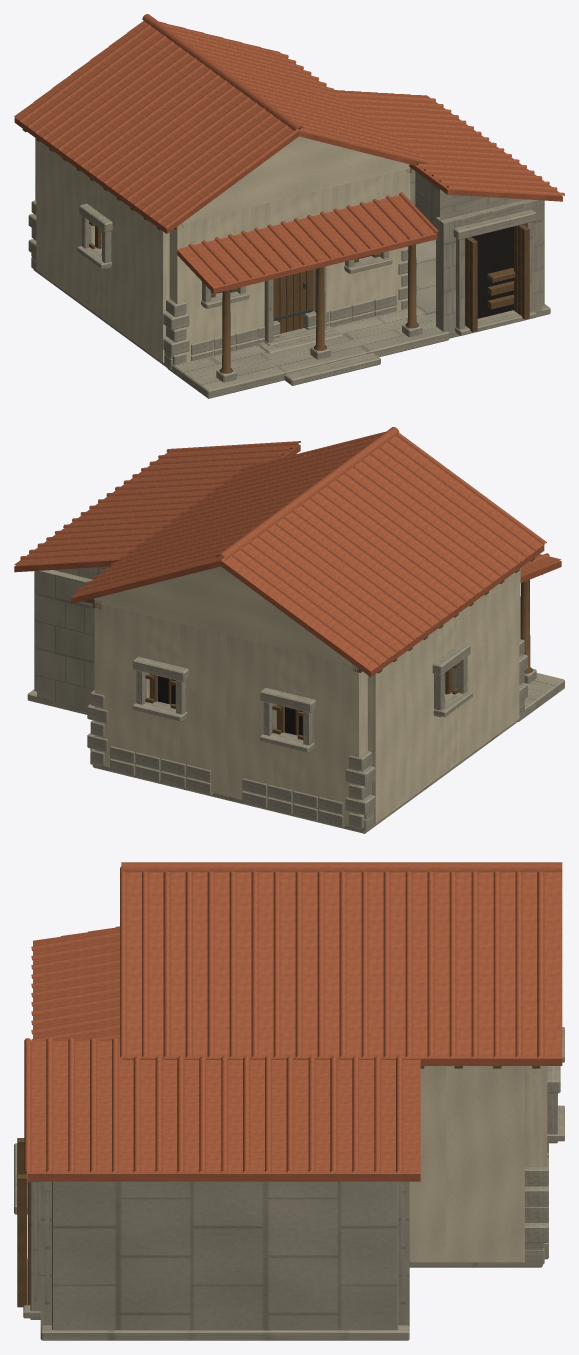
The model's file is farmhouse.glb.
3 views of the same model, one above another, from view 1: azimuth 30°, elevation 25°; view 2: azimuth 150°, elevation 25°; view 3: azimuth 270°, elevation 25° (orthographic). The views are drawn at different scales.
Visible parts, largest first — view 1: farmhouse; view 2: farmhouse; view 3: farmhouse.
Part boxes in pixels (box(x1,y1,x2,y2)): farmhouse: box(14, 14, 564, 398); farmhouse: box(14, 427, 564, 833); farmhouse: box(14, 862, 564, 1340).
Size of the model in its own units: 8.19 by 4.75 by 7.4.
1 material, 1 textured.
